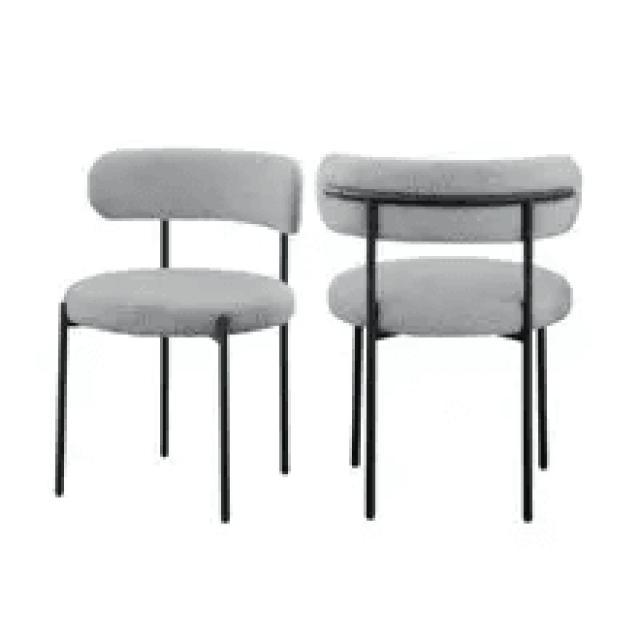chair: (310, 143, 588, 529), (48, 141, 307, 528), (316, 152, 579, 340), (58, 148, 308, 338)
